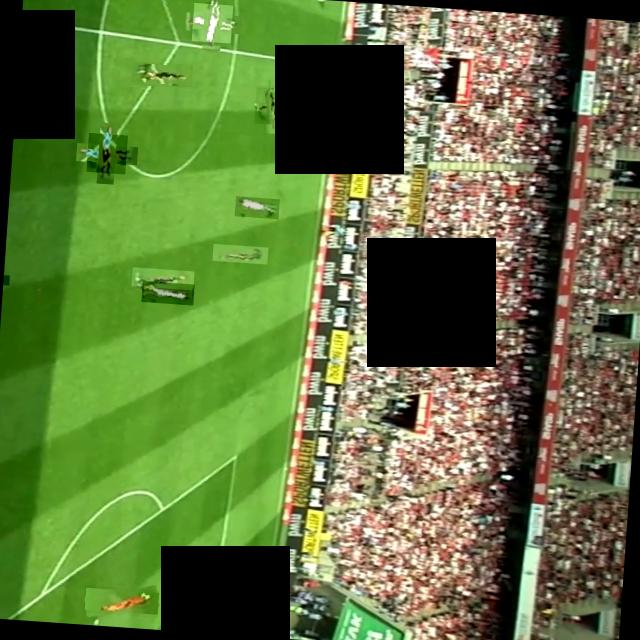goalkeeper: (82, 584, 159, 618)
referee: (85, 132, 126, 174)
soccer-player: (190, 2, 232, 43), (129, 61, 192, 88), (253, 87, 292, 125), (130, 267, 193, 290), (140, 280, 193, 305), (211, 243, 267, 264), (233, 196, 278, 218), (2, 275, 8, 285)
